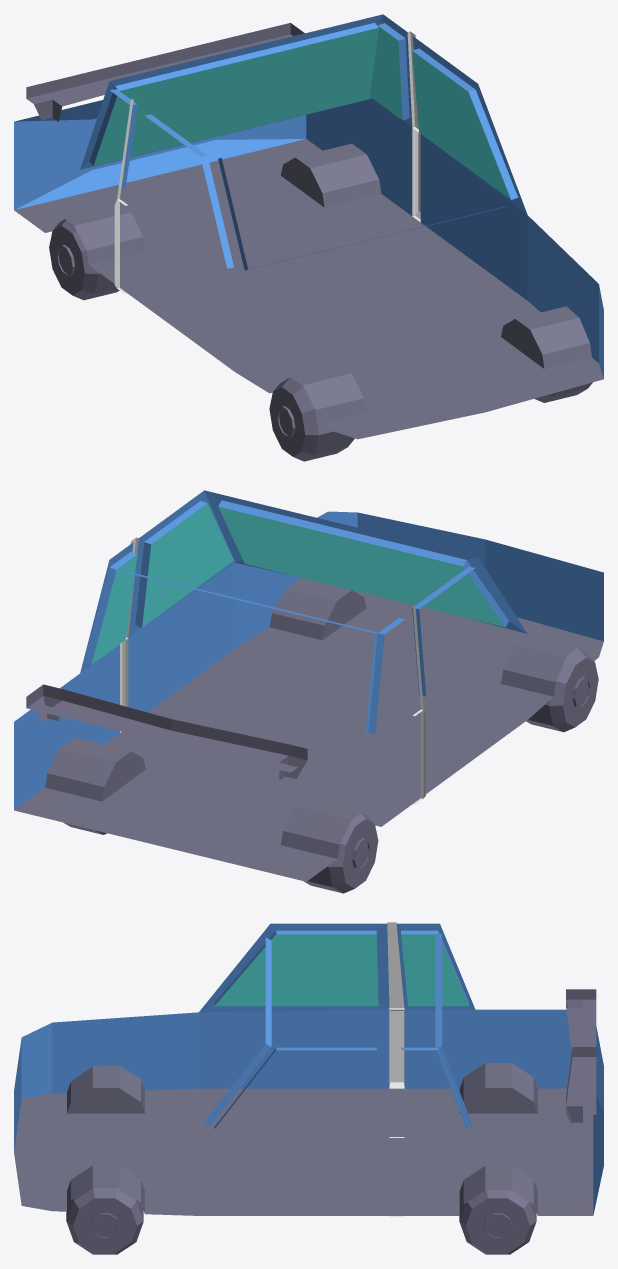
The model's file is simple-car-high.glb.
The picture shows the model from 3 angles, top to bottom: view 1: azimuth 30°, elevation 25°; view 2: azimuth 150°, elevation 25°; view 3: azimuth 270°, elevation 25°; orthographic projection. The views are drawn at different scales.
Visible parts, largest first — view 1: Cube.001, FrontWheels.001_Cylinder.001, FrontWheels.000_Cylinder.000; view 2: Cube.001, FrontWheels.001_Cylinder.001, FrontWheels.000_Cylinder.000; view 3: Cube.001, FrontWheels.001_Cylinder.001, FrontWheels.000_Cylinder.000.
Part boxes in pixels (x1,y1,x2,y2): Cube.001: (14,14,603,439); FrontWheels.001_Cylinder.001: (269,377,592,461); FrontWheels.000_Cylinder.000: (49,219,119,300); Cube.001: (14,490,603,881); FrontWheels.001_Cylinder.001: (526,648,598,732); FrontWheels.000_Cylinder.000: (64,812,378,893); Cube.001: (14,922,603,1217); FrontWheels.001_Cylinder.001: (66,1187,143,1254); FrontWheels.000_Cylinder.000: (459,1190,536,1254).
Size of the model in its own units: 2.14 by 1.6 by 4.03.
Materials: 1 (1 with a texture image).
